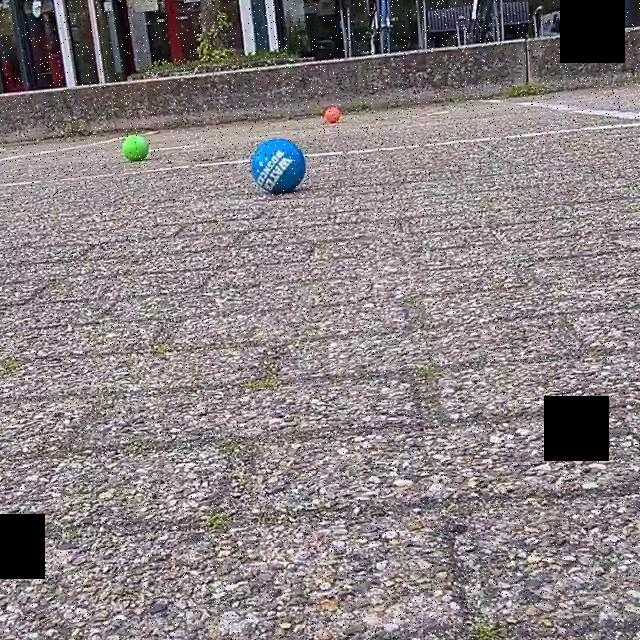ball: (119, 132, 150, 164), (322, 102, 343, 126)
